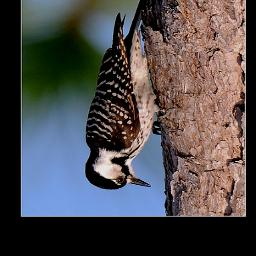Woodpecker: (80, 0, 167, 195)
